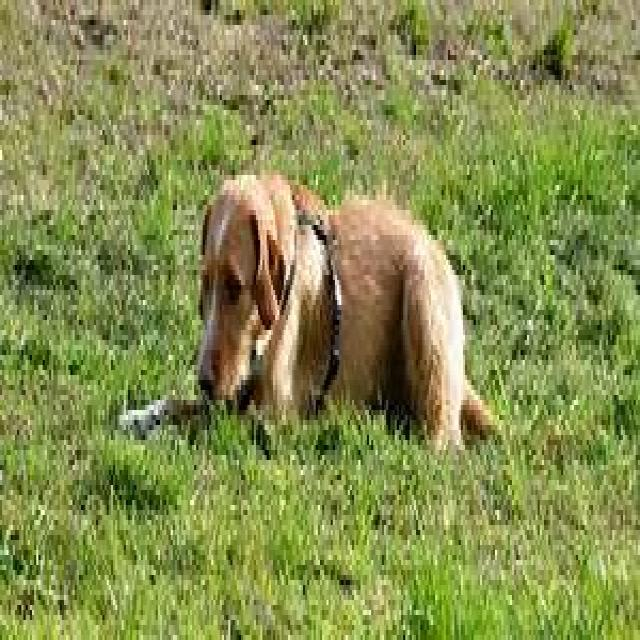dog: (196, 175, 495, 455)
